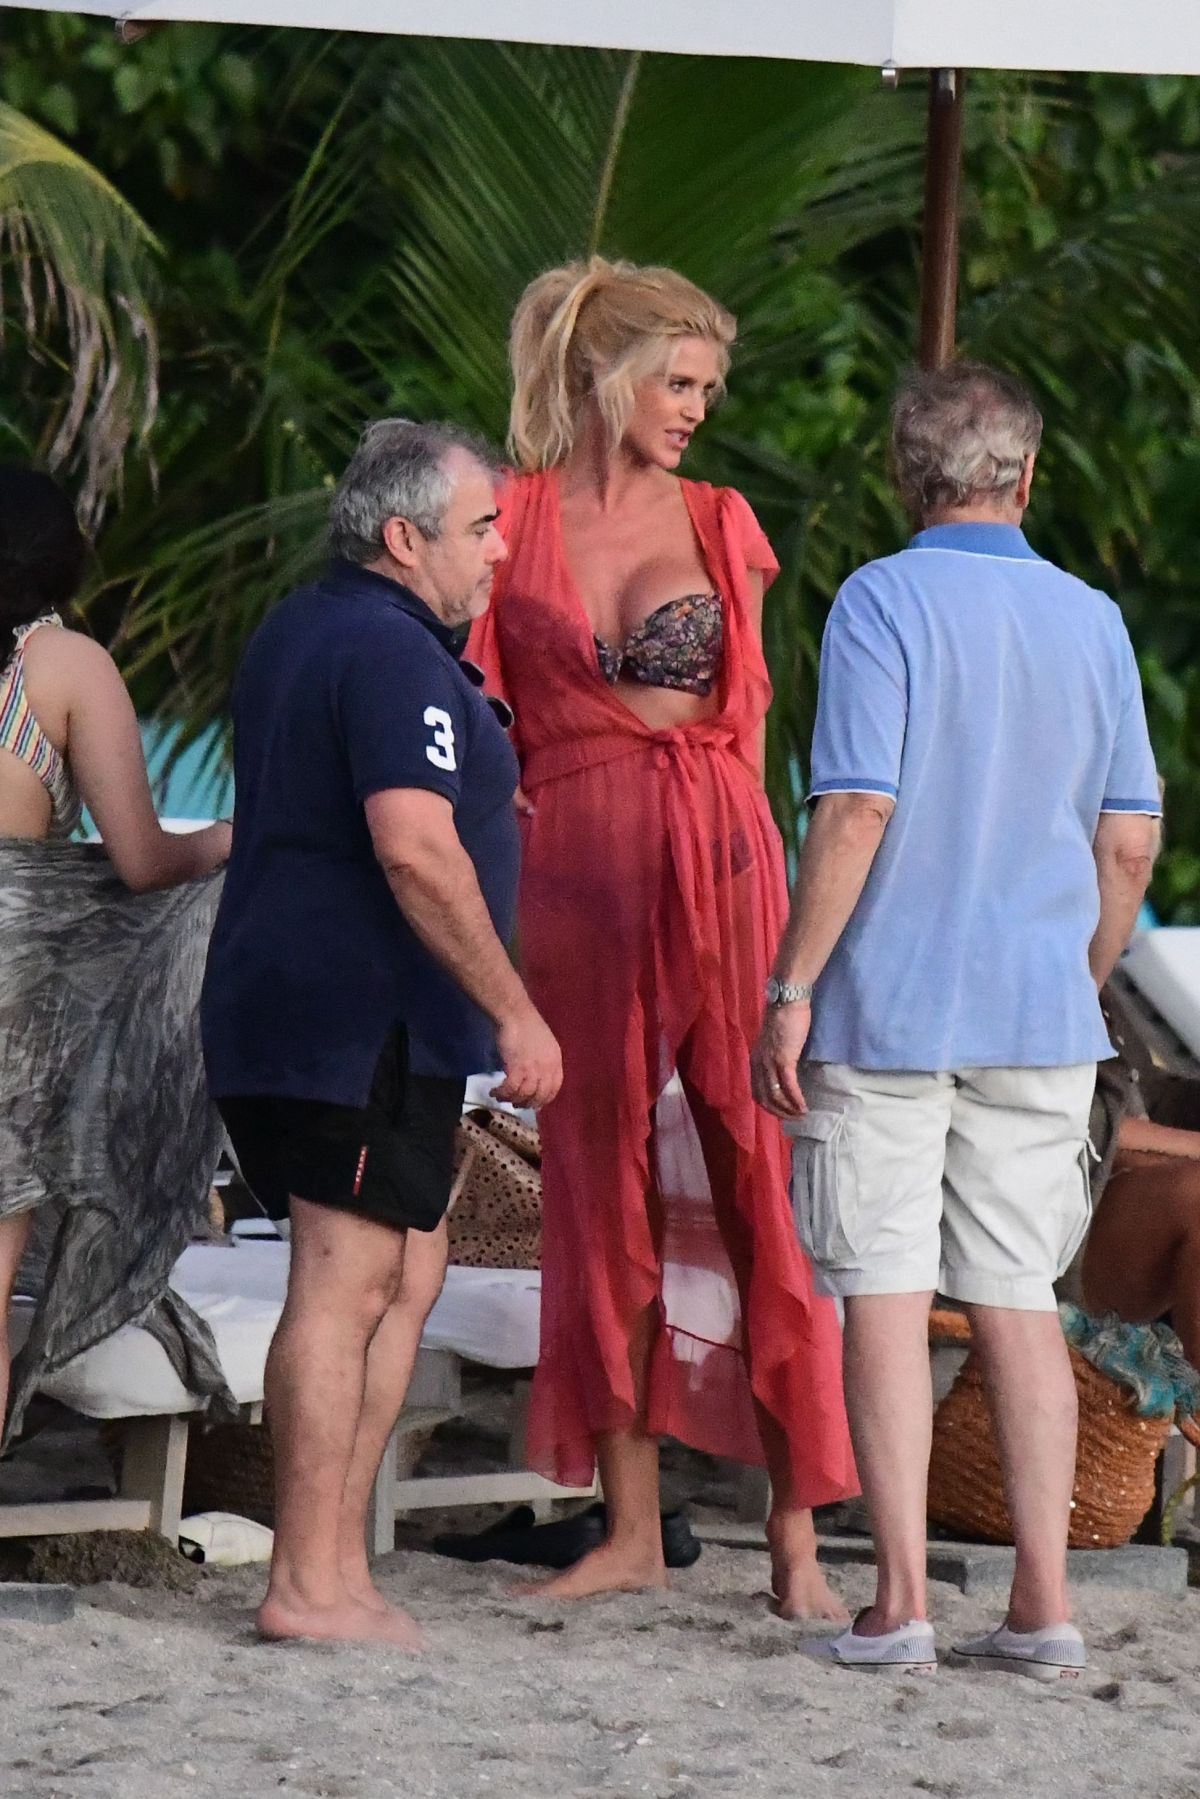Person: (445, 240, 875, 1625), (748, 363, 1181, 1702), (195, 419, 575, 1657), (4, 396, 245, 1469)
